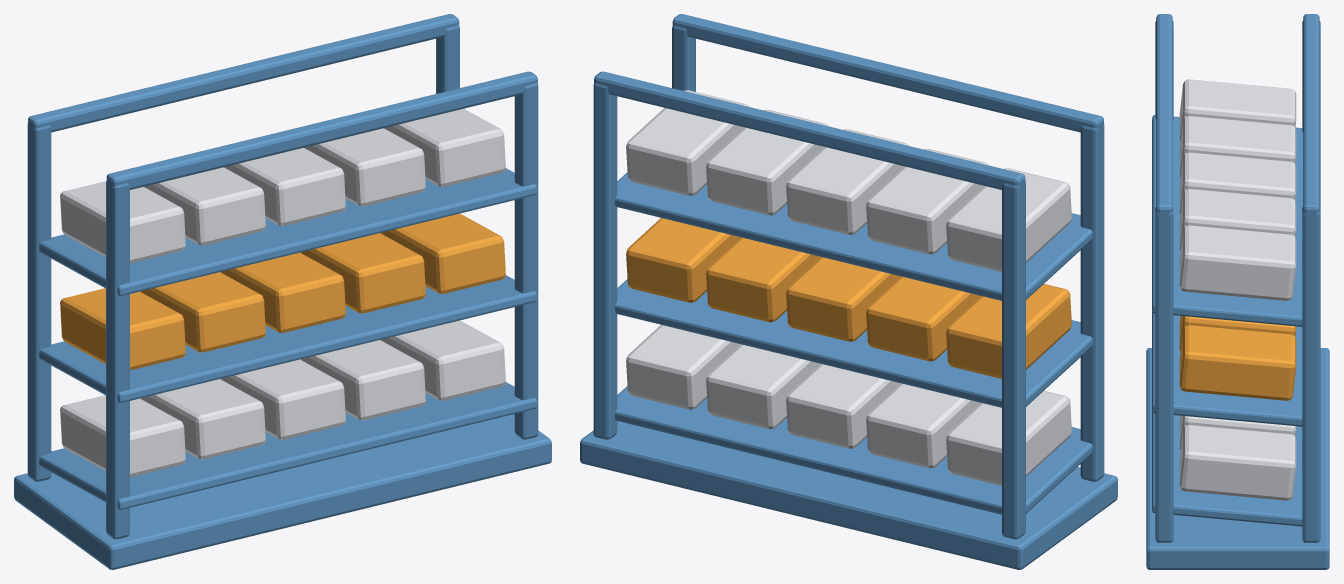
File: btf-line-rack.glb
3 renders of one model, left to right at view 1: azimuth 30°, elevation 25°; view 2: azimuth 150°, elevation 25°; view 3: azimuth 270°, elevation 25°, orthographic. The views are drawn at different scales.
Parts seen in each view (by area): view 1: 153-line-side-rack/0, 153-line-side-rack/1, 153-line-side-rack/3; view 2: 153-line-side-rack/0, 153-line-side-rack/1, 153-line-side-rack/3; view 3: 153-line-side-rack/0, 153-line-side-rack/1, 153-line-side-rack/3.
Part boxes in pixels (<box>): 153-line-side-rack/0: <box>14,14,551,569</box>; 153-line-side-rack/1: <box>60,108,505,477</box>; 153-line-side-rack/3: <box>60,213,505,370</box>; 153-line-side-rack/0: <box>580,14,1117,569</box>; 153-line-side-rack/1: <box>626,90,1071,485</box>; 153-line-side-rack/3: <box>626,218,1071,378</box>; 153-line-side-rack/0: <box>1146,14,1329,569</box>; 153-line-side-rack/1: <box>1179,79,1296,500</box>; 153-line-side-rack/3: <box>1179,316,1296,400</box>.
Size of the model in its own units: 85194 by 71102 by 32763.
